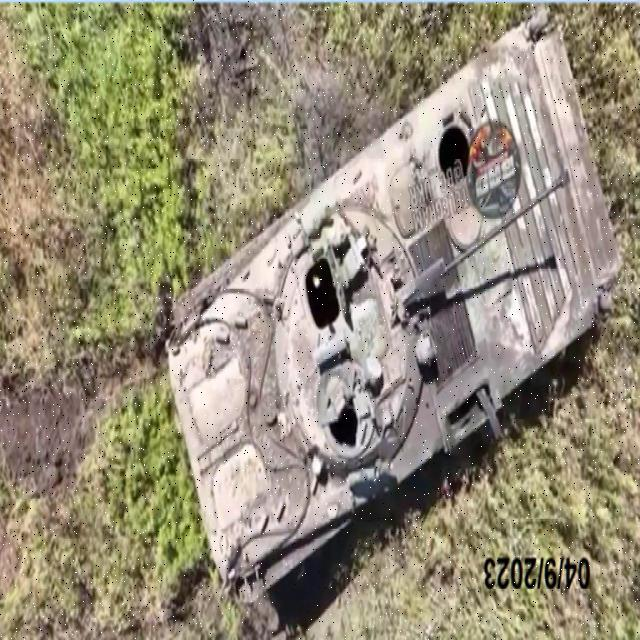APC-IFV: (164, 16, 625, 606)
